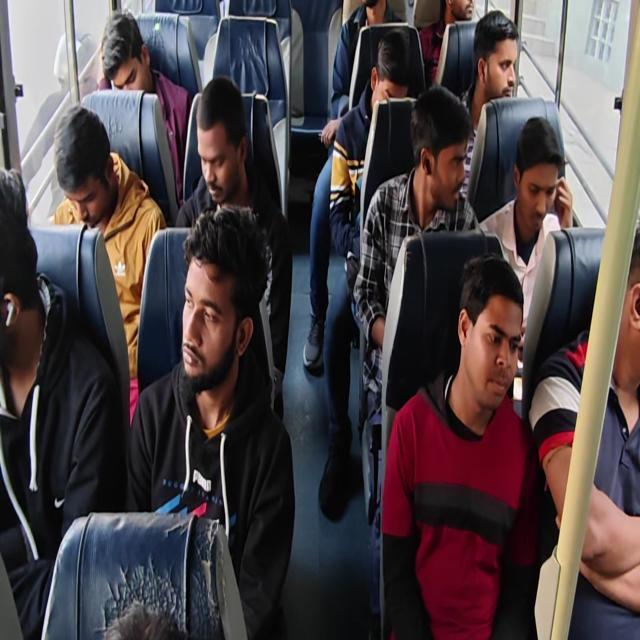person: (451, 268, 534, 419), (51, 115, 132, 262), (178, 219, 240, 402), (0, 182, 44, 356), (592, 234, 640, 371), (414, 110, 469, 218), (200, 80, 246, 193), (514, 134, 567, 232), (473, 21, 526, 116), (102, 16, 153, 112), (373, 38, 418, 129), (423, 0, 490, 26), (353, 0, 388, 26)
